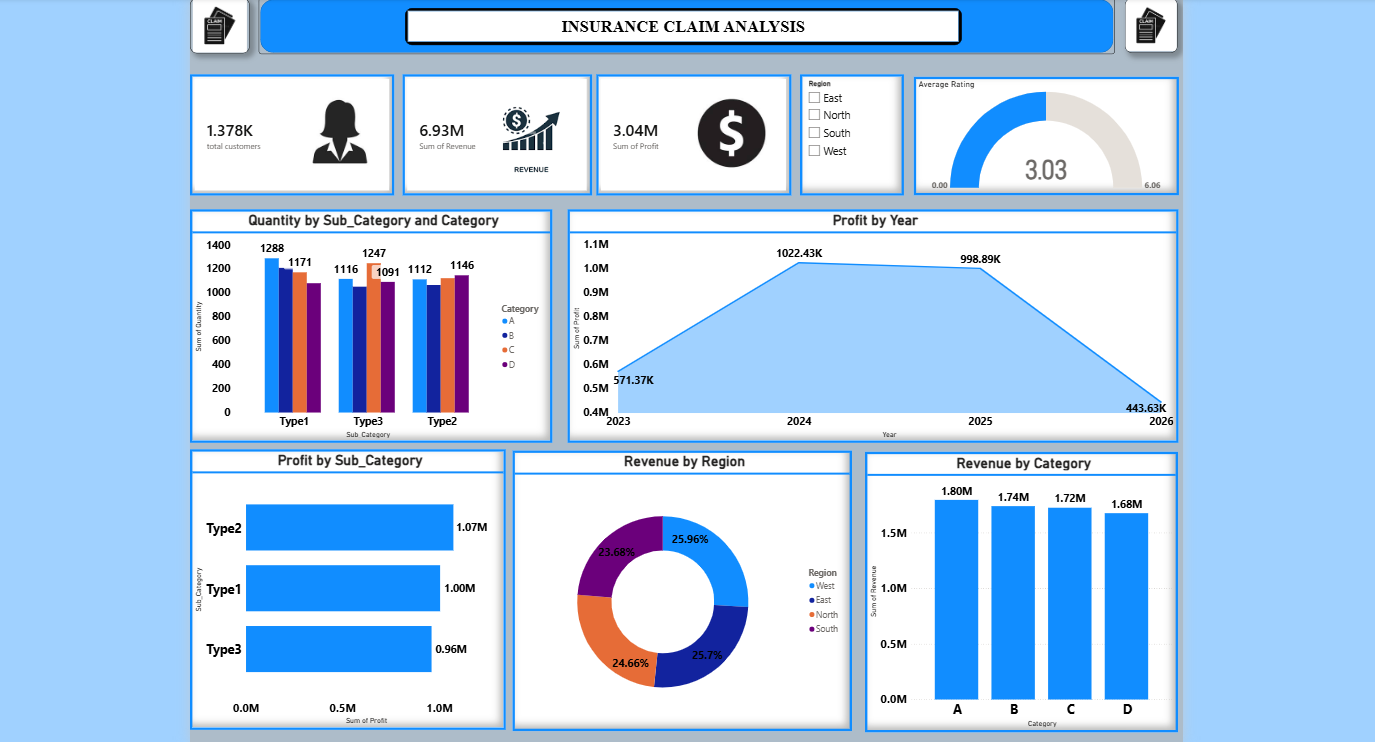

The page's visual inventory and layout, read from the dashboard file:
{"tool":"powerbi","page":{"name":"Page 1","canvas":[2010,1510],"ordinal":0},"visuals":[{"type":"columnChart","title":"Revenue by Category","fields":{"Category":["09_Insurance_Claims (2).Category"],"Y":["Sum(09_Insurance_Claims (2).Revenue)"]},"box":[1367.1,918.2,633.3,568.1],"z":0},{"type":"lineClusteredColumnComboChart","title":" Quantity by Sub_Category and Category","fields":{"Category":["09_Insurance_Claims (2).Sub_Category"],"Series":["09_Insurance_Claims (2).Category"],"Y":["Sum(09_Insurance_Claims (2).Quantity)"]},"box":[0,428.4,733.8,473.1],"z":1000},{"type":"areaChart","title":"Profit by Year","fields":{"Category":["09_Insurance_Claims (2).Transaction_Date.Variation.Date Hierarchy.Year"],"Y":["Sum(09_Insurance_Claims (2).Profit)"]},"box":[763.6,428.4,1236.7,473.1],"z":2000},{"type":"donutChart","title":"Revenue by Region","fields":{"Category":["09_Insurance_Claims (2).Region"],"Y":["Sum(09_Insurance_Claims (2).Revenue)"]},"box":[653.8,916.4,687.3,568.1],"z":3000},{"type":"clusteredBarChart","title":" Profit by Sub_Category","fields":{"Y":["Sum(09_Insurance_Claims (2).Profit)"],"Category":["09_Insurance_Claims (2).Sub_Category"]},"box":[0,914.5,638.9,568.1],"z":4000},{"type":"cardVisual","fields":{"Data":["Sum(09_Insurance_Claims (2).Profit)"]},"box":[821.4,154.6,394.9,245.9],"z":5000},{"type":"gauge","fields":{"Y":["09_Insurance_Claims (2).Average Rating"]},"box":[1464,160.2,536.4,240.3],"z":6000},{"type":"cardVisual","fields":{"Data":["Sum(09_Insurance_Claims (2).Revenue)"]},"box":[430.2,154.6,383.7,245.9],"z":7000},{"type":"cardVisual","fields":{"Data":["09_Insurance_Claims (2).total customers"]},"box":[0,154.6,413.5,245.9],"z":8000},{"type":"slicer","fields":{"Values":["09_Insurance_Claims (2).Region"]},"box":[1234.9,154.6,210.5,245.9],"z":9000},{"type":"image","box":[0,0,121.1,111.8],"z":10000},{"type":"image","box":[216.1,175.1,176.9,203],"z":11000},{"type":"image","box":[998.3,195.6,193.7,163.9],"z":12000},{"type":"image","box":[1892.6,0,106.3,111.3],"z":13000},{"type":"shape","box":[140.4,0,1732.7,113.5],"z":14000},{"type":"shape","box":[434.6,19.2,1126.9,75],"z":15000},{"type":"image","box":[584.5,169.5,212.5,212.5],"z":16000}]}

Visuals, with their boxes in screenshot pixels (x1, y1, x2, y2):
"Revenue by Category" columnChart: box=[866, 444, 1172, 719]
" Quantity by Sub_Category and Category" lineClusteredColumnComboChart: box=[204, 207, 559, 436]
"Profit by Year" areaChart: box=[574, 207, 1172, 436]
"Revenue by Region" donutChart: box=[521, 444, 853, 719]
" Profit by Sub_Category" clusteredBarChart: box=[204, 443, 513, 718]
cardVisual - Sum(09_Insurance_Claims (2).Profit): box=[602, 75, 793, 194]
gauge - 09_Insurance_Claims (2).Average Rating: box=[913, 78, 1172, 194]
cardVisual - Sum(09_Insurance_Claims (2).Revenue): box=[412, 75, 598, 194]
cardVisual - 09_Insurance_Claims (2).total customers: box=[204, 75, 404, 194]
slicer - 09_Insurance_Claims (2).Region: box=[802, 75, 904, 194]
image: box=[204, 0, 263, 54]
image: box=[309, 85, 394, 183]
image: box=[687, 95, 781, 174]
image: box=[1120, 0, 1172, 54]
shape: box=[272, 0, 1111, 55]
shape: box=[414, 9, 960, 46]
image: box=[487, 82, 590, 185]
